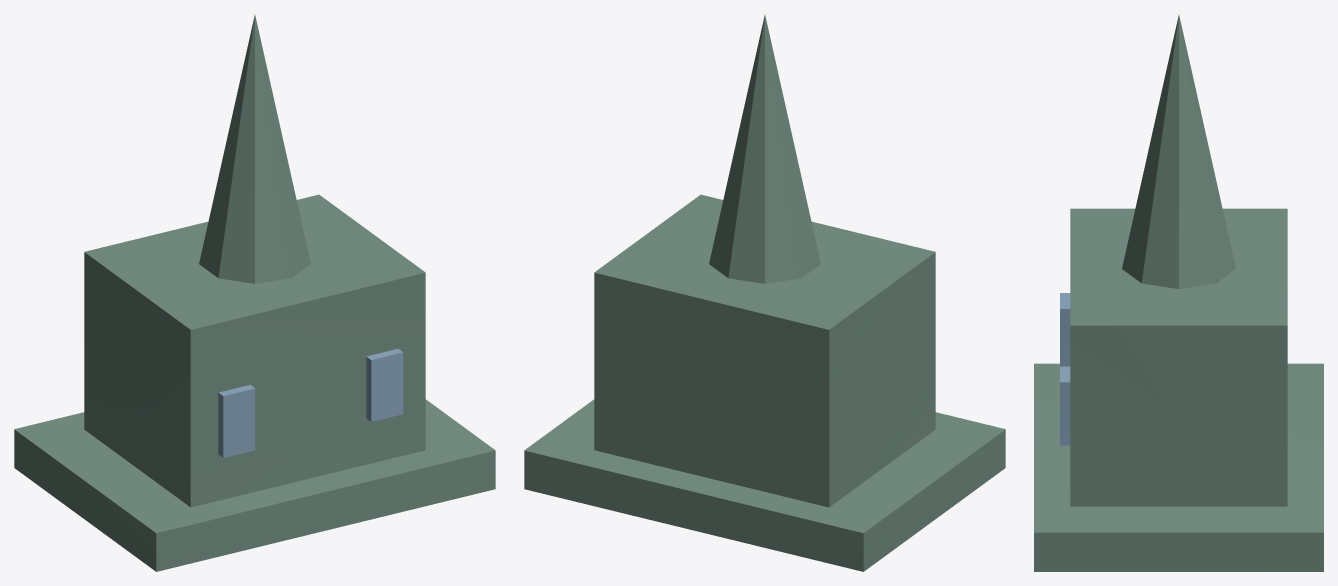
Rendered from monument-05.glb.
3 renders of one model, left to right at view 1: azimuth 30°, elevation 25°; view 2: azimuth 150°, elevation 25°; view 3: azimuth 270°, elevation 25°, orthographic.
Visible parts, largest first — view 1: world; view 2: world; view 3: world.
Boxes of the visible parts, x1=… form: world: x1=14, y1=15, x2=495, y2=571; world: x1=524, y1=15, x2=1005, y2=571; world: x1=1034, y1=15, x2=1323, y2=571.
Size of the model in its own units: 1.38 by 1.8 by 1.
